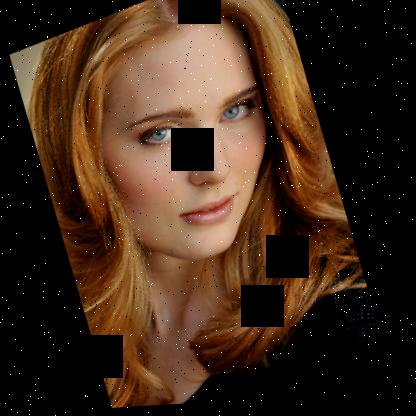Female: (59, 0, 314, 293)
